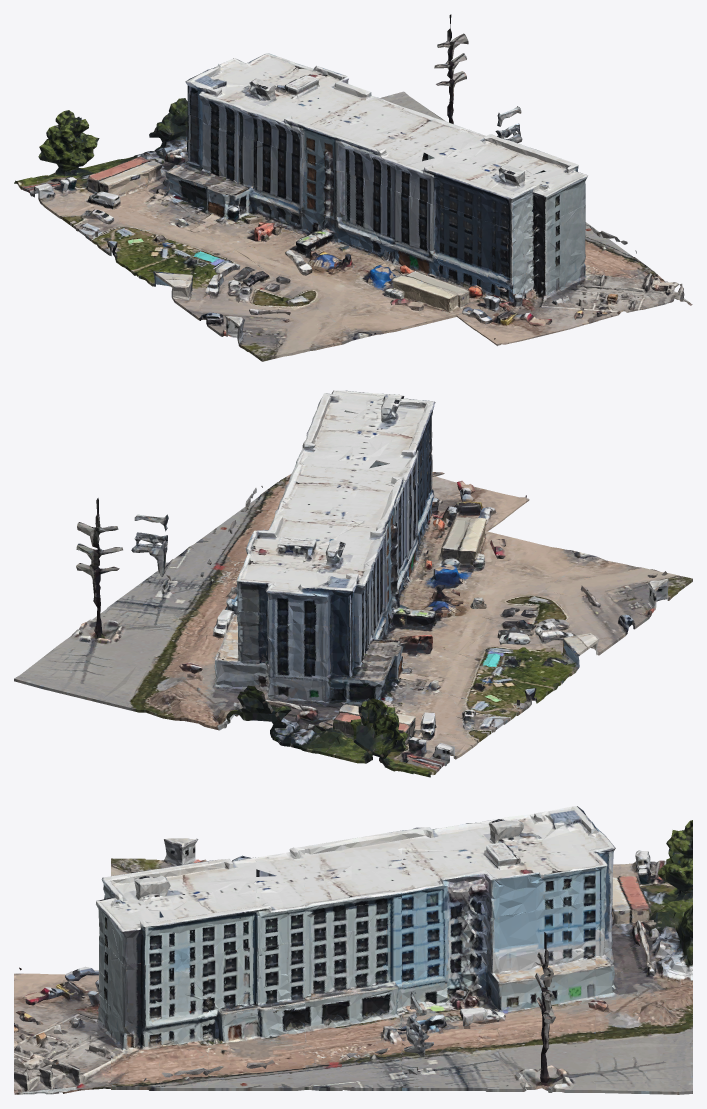
File: AirBuffalo.fbx
3 renders of one model, top to bottom at view 1: azimuth 30°, elevation 25°; view 2: azimuth 150°, elevation 25°; view 3: azimuth 270°, elevation 25°, orthographic. The views are drawn at different scales.
Visible parts, largest first — view 1: BuildingMesh-00148.006, BuildingMesh-00168.006, BuildingMesh-00137.009, BuildingMesh-00134.008, BuildingMesh-00106.008, BuildingMesh-00145.007, BuildingMesh-00146.009, BuildingMesh-00133.007, BuildingMesh-00118.008, BuildingMesh-00107.008, BuildingMesh-00161.007, BuildingMesh-00160.008 (+10 smaller); view 2: BuildingMesh-00168.006, BuildingMesh-00164.009, BuildingMesh-00137.009, BuildingMesh-00148.006, BuildingMesh-00147.008, BuildingMesh-00134.008, BuildingMesh-00161.007, BuildingMesh-00146.009, BuildingMesh-00133.007, BuildingMesh-00160.008, BuildingMesh-00145.007, BuildingMesh-00118.008 (+2 smaller); view 3: BuildingMesh-00147.008, BuildingMesh-00164.009, BuildingMesh-00134.008, BuildingMesh-00146.009, BuildingMesh-00168.006, BuildingMesh-00107.008, BuildingMesh-00160.008, BuildingMesh-00133.007, BuildingMesh-00106.008, BuildingMesh-00120.009, BuildingMesh-00243.003, BuildingMesh-00161.007 (+8 smaller).
Part boxes in pixels (x1,y1,x2,y2): BuildingMesh-00148.006: (95,135,373,306); BuildingMesh-00168.006: (14,98,237,245); BuildingMesh-00137.009: (180,232,456,361); BuildingMesh-00134.008: (375,182,650,316); BuildingMesh-00106.008: (456,220,594,345); BuildingMesh-00145.007: (232,83,374,181); BuildingMesh-00146.009: (292,75,467,150); BuildingMesh-00133.007: (374,129,512,205); BuildingMesh-00118.008: (436,159,552,228); BuildingMesh-00107.008: (556,215,692,321); BuildingMesh-00161.007: (185,58,291,134); BuildingMesh-00160.008: (250,14,468,86); BuildingMesh-00168.006: (221,596,519,777); BuildingMesh-00164.009: (14,548,267,730); BuildingMesh-00137.009: (398,518,692,650); BuildingMesh-00148.006: (368,519,605,715); BuildingMesh-00147.008: (102,514,245,637); BuildingMesh-00134.008: (190,440,480,590); BuildingMesh-00161.007: (265,542,373,627); BuildingMesh-00146.009: (253,462,396,545); BuildingMesh-00133.007: (296,429,418,515); BuildingMesh-00160.008: (76,498,309,613); BuildingMesh-00145.007: (310,482,403,595); BuildingMesh-00118.008: (338,394,434,469); BuildingMesh-00147.008: (304,911,499,1091); BuildingMesh-00164.009: (498,898,692,1094); BuildingMesh-00134.008: (111,940,305,1090); BuildingMesh-00146.009: (305,845,499,940); BuildingMesh-00168.006: (604,820,692,976); BuildingMesh-00107.008: (14,944,111,1094); BuildingMesh-00160.008: (498,845,607,1000); BuildingMesh-00133.007: (207,847,304,945); BuildingMesh-00106.008: (14,936,105,1029); BuildingMesh-00120.009: (111,909,208,966); BuildingMesh-00243.003: (111,951,208,1081); BuildingMesh-00161.007: (498,806,615,882).
Bounding box in the file's own units: 392 × 125 × 498.
